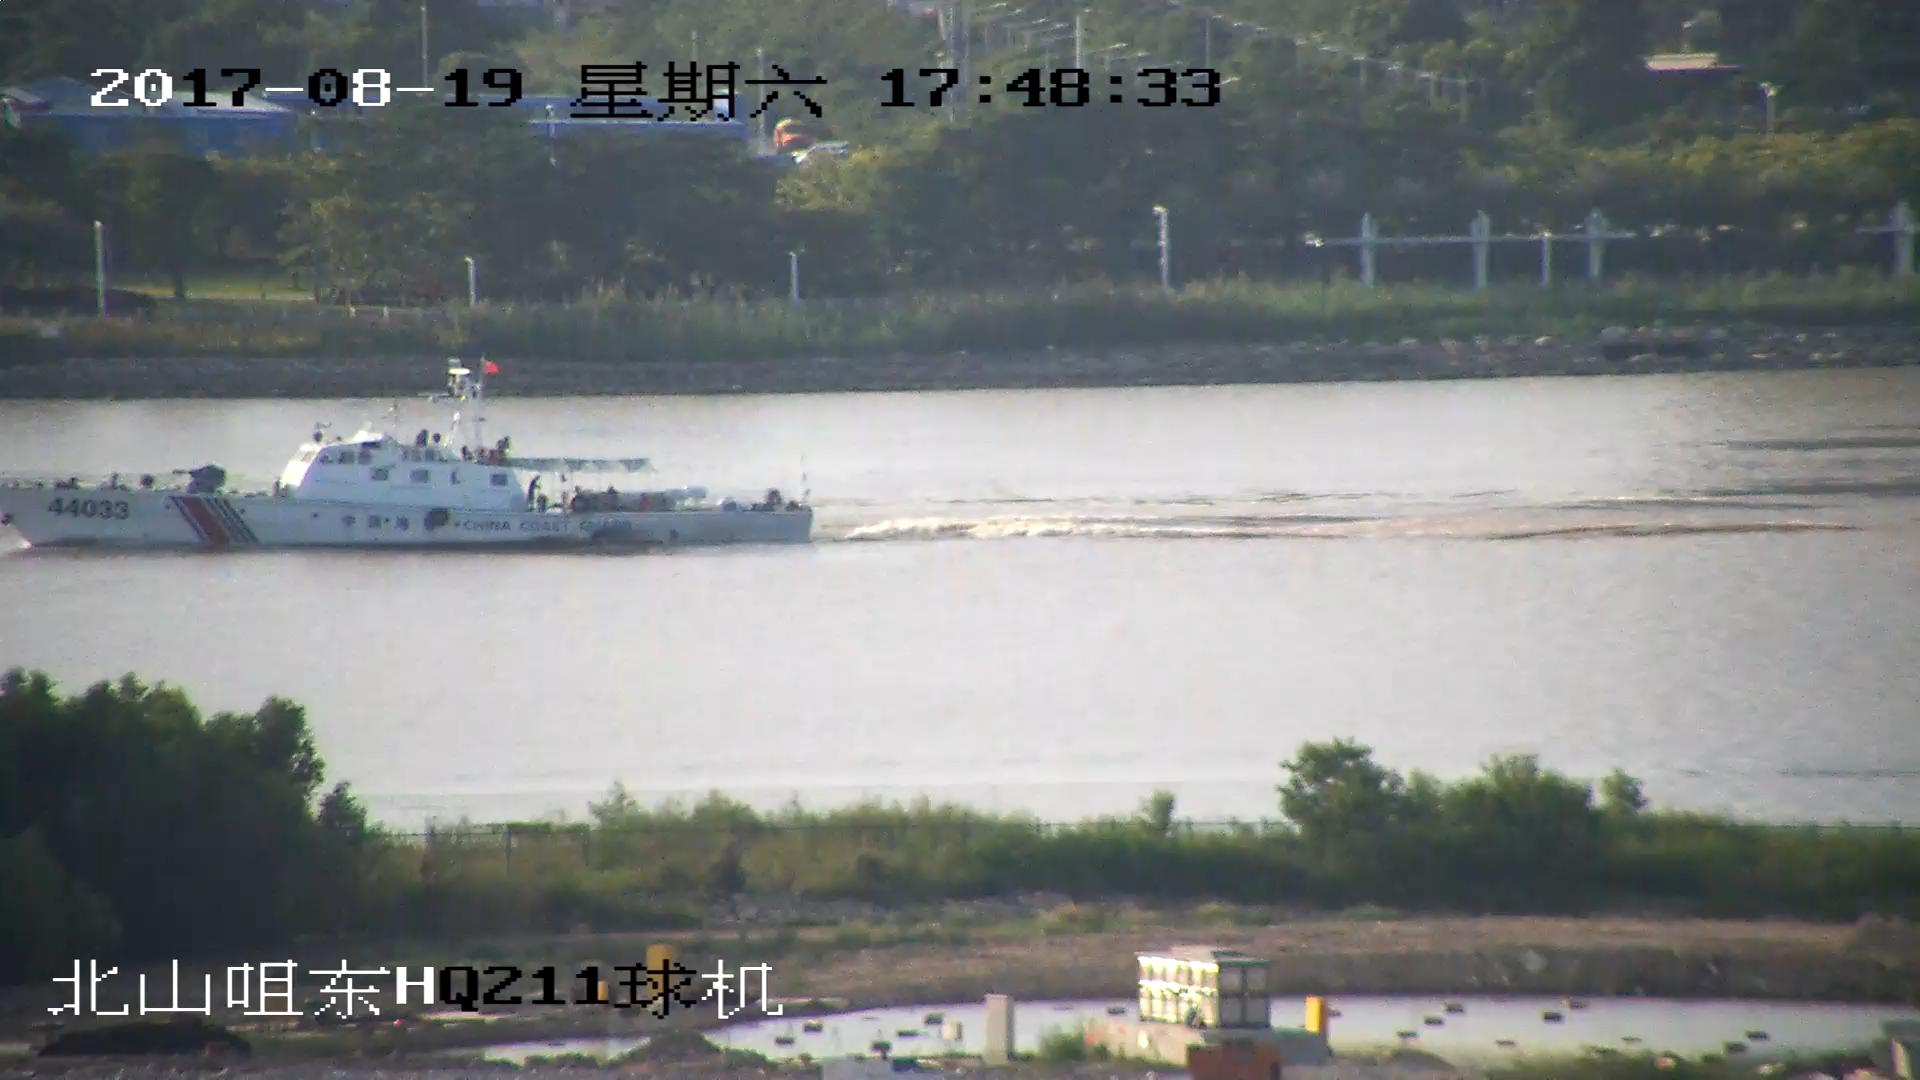passenger ship: (1, 352, 814, 554)
